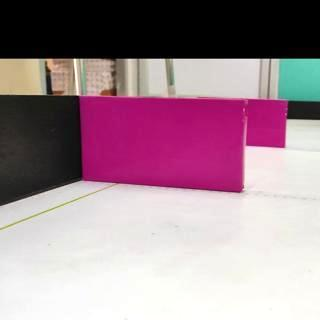xparking: (82, 96, 244, 187), (248, 101, 284, 146)
